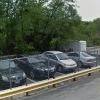Car: (13, 49, 80, 79)
